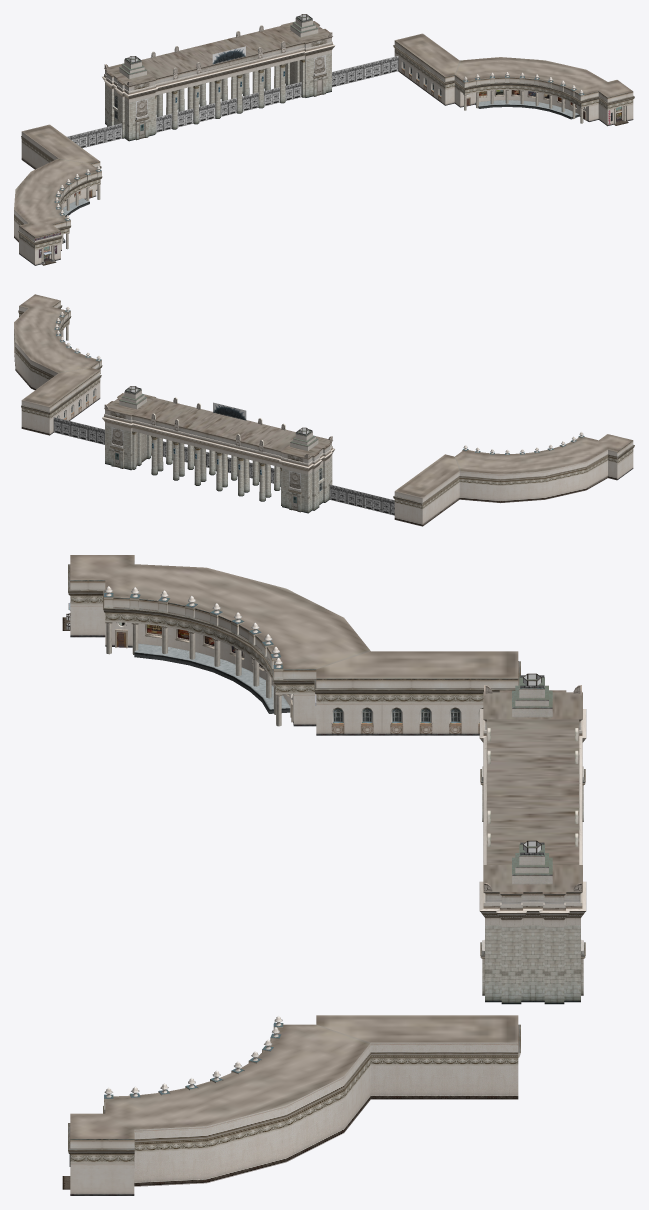
Rendered from Gorky_Park_GLTF.gltf.
The picture shows the model from 3 angles, top to bottom: view 1: azimuth 30°, elevation 25°; view 2: azimuth 150°, elevation 25°; view 3: azimuth 270°, elevation 25°; orthographic projection. The views are drawn at different scales.
Visible parts, largest first — view 1: 1-_DAY; view 2: 1-_DAY; view 3: 1-_DAY.
Part boxes in pixels (x1=…): 1-_DAY: x1=14, y1=14, x2=634, y2=265; 1-_DAY: x1=14, y1=294, x2=634, y2=526; 1-_DAY: x1=62, y1=555, x2=586, y2=1195.
Bounding box in the file's own units: 186 × 21.24 × 70.26.
1 material, 1 textured.
